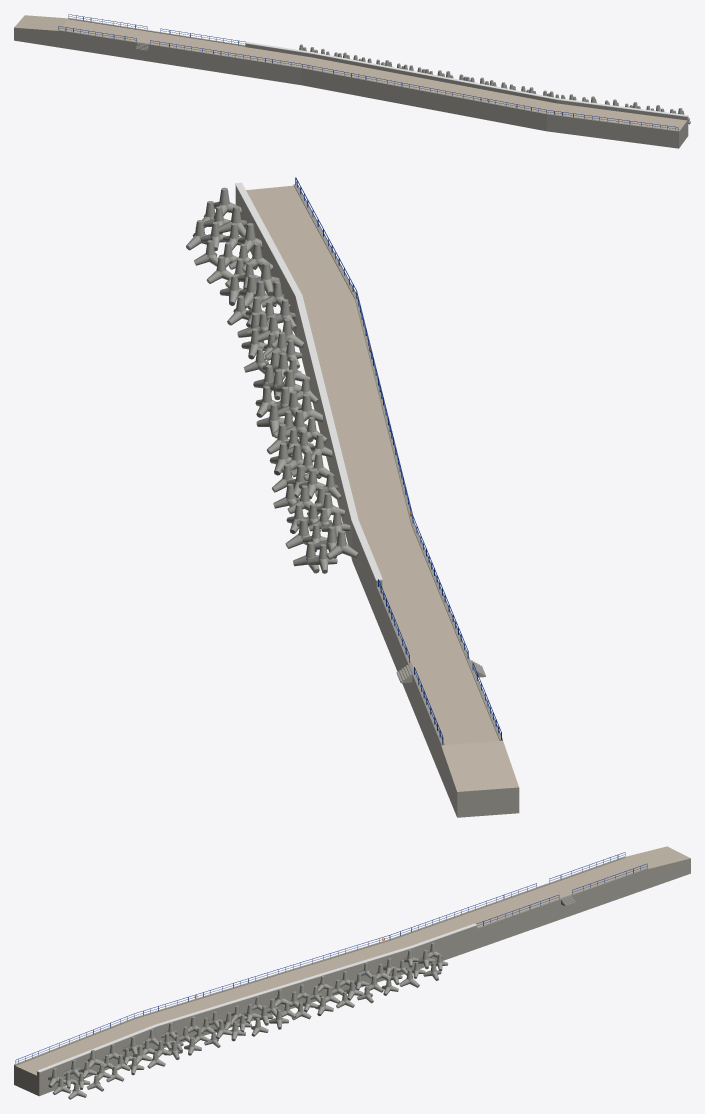
Rendered from SM_Harbor_Breakwater.fbx.
3 views of the same model, one above another, from view 1: azimuth 30°, elevation 25°; view 2: azimuth 150°, elevation 25°; view 3: azimuth 270°, elevation 25° (orthographic). The views are drawn at different scales.
Parts seen in each view (by area): view 1: SM_Harbor_Breakwater; view 2: SM_Harbor_Breakwater; view 3: SM_Harbor_Breakwater.
Boxes of the visible parts, bbox=[...] form: SM_Harbor_Breakwater: bbox=[14, 14, 690, 148]; SM_Harbor_Breakwater: bbox=[186, 177, 519, 817]; SM_Harbor_Breakwater: bbox=[14, 846, 690, 1099].
Bounding box in the file's own units: 123 × 6.72 × 146.
